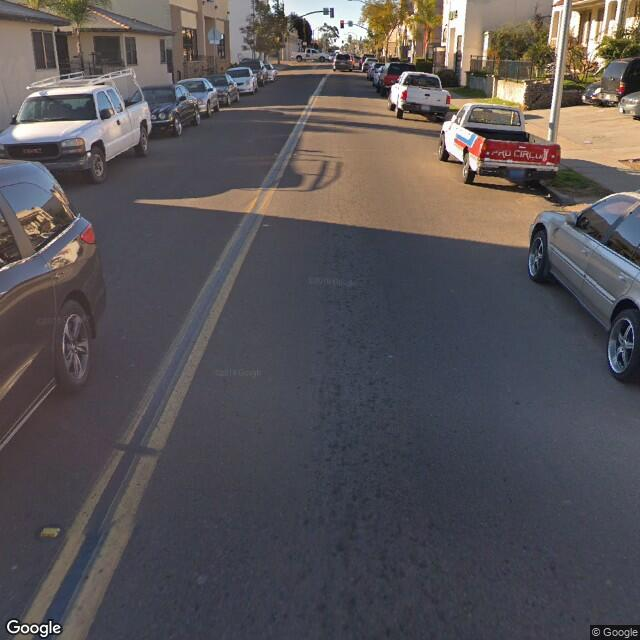road line: (45, 439, 149, 628), (158, 284, 208, 451)
